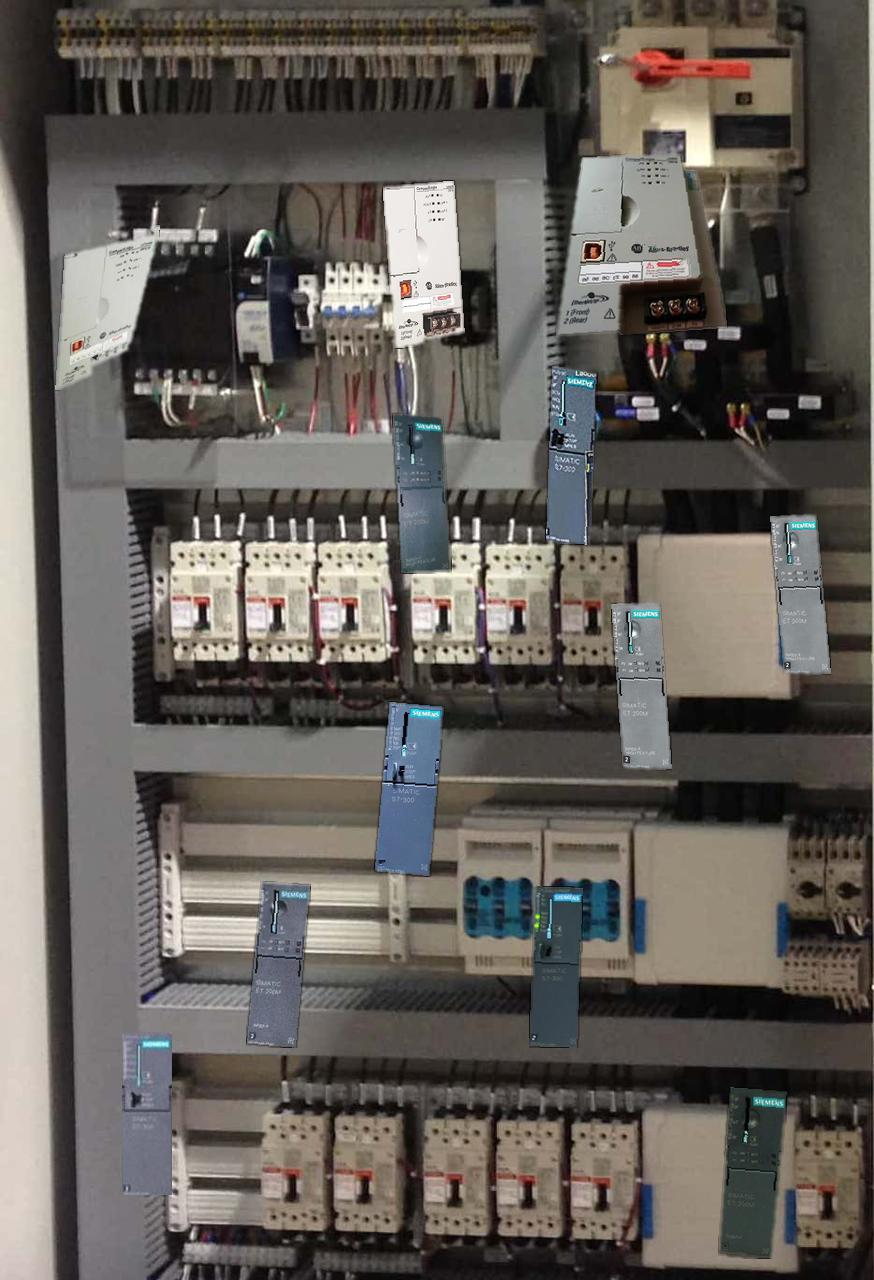AllenBradley: (556, 154, 726, 335), (56, 225, 159, 389), (383, 181, 464, 347)
Siemens: (375, 702, 442, 875), (546, 366, 596, 544), (529, 886, 582, 1047), (122, 1032, 171, 1194)
